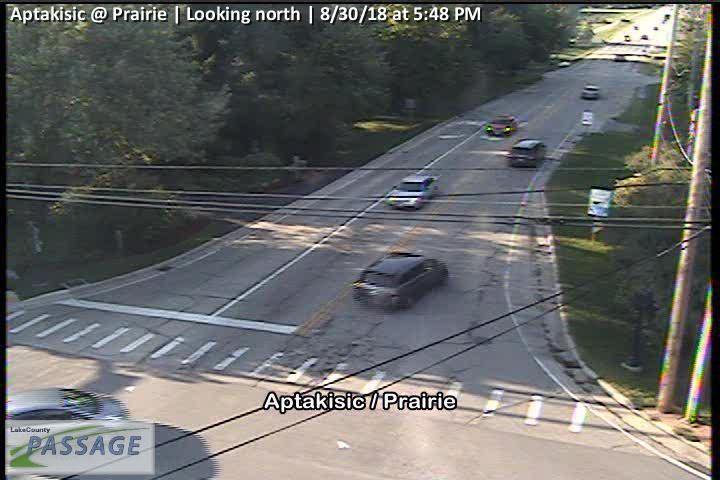SUV: (510, 139, 547, 169)
Sedan: (2, 388, 132, 455), (353, 253, 449, 310), (387, 174, 438, 209), (486, 115, 519, 136), (581, 85, 600, 99)
